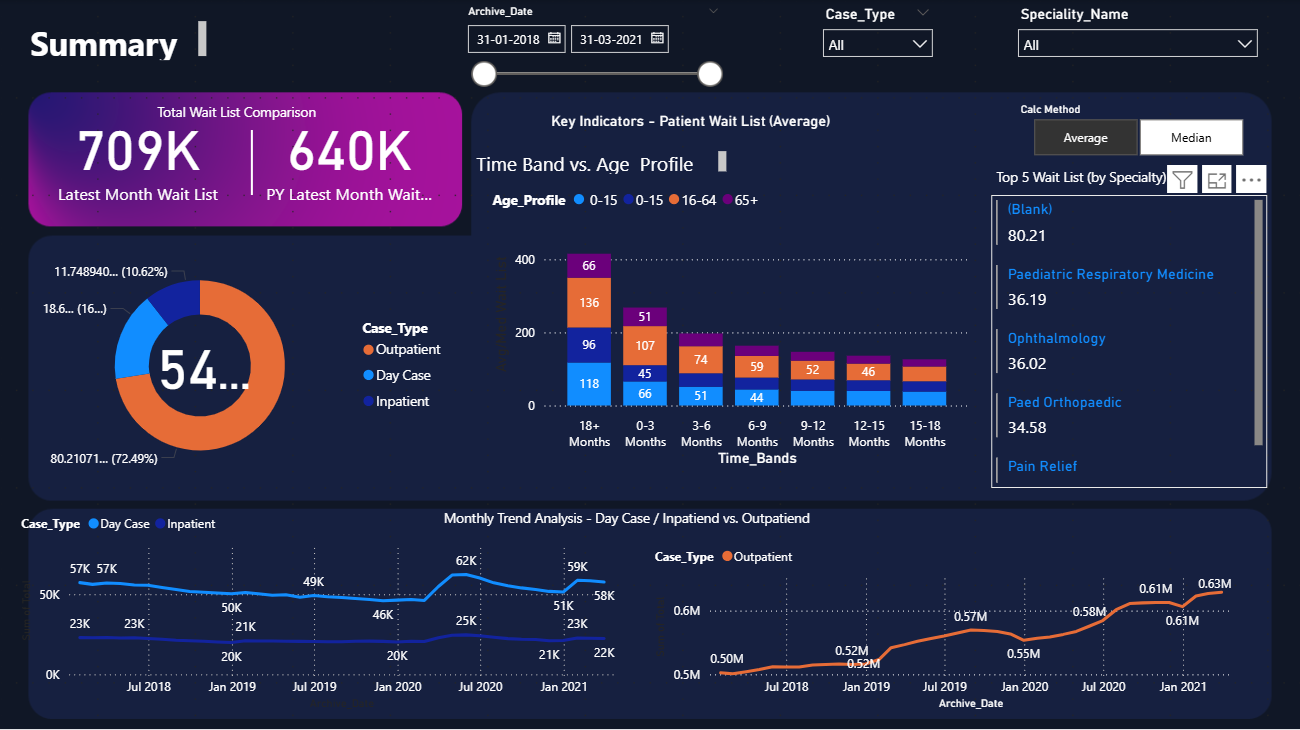

Layout of this report page (visuals, bound fields, positions):
{"tool":"powerbi","page":{"name":"Summary","canvas":[1280,720],"ordinal":0},"visuals":[{"type":"card","fields":{"Values":["All_Data.Latest Month Wait List"]},"box":[48,96,176,112],"z":0},{"type":"card","fields":{"Values":["All_Data.PY Latest Month Wait List"]},"box":[256,96,176,112],"z":1000},{"type":"slicer","fields":{"Values":["Calculation Method.Calc Method"]},"box":[960,96,256,64],"z":2000},{"type":"donutChart","fields":{"Y":["All_Data.Avg/Med Wait List"],"Category":["All_Data.Case_Type"]},"box":[32,240,416,240],"z":3000},{"type":"columnChart","fields":{"Y":["All_Data.Avg/Med Wait List"],"Category":["All_Data.Time_Bands"],"Series":["All_Data.Age_Profile"]},"box":[480,176,480,288],"z":4000},{"type":"multiRowCard","fields":{"Values":["All_Data.Avg/Med Wait List","All_Data.Specialty_Name"]},"box":[976,192,272,288],"z":5000},{"type":"lineChart","fields":{"Category":["All_Data.Archive_Date"],"Y":["Sum(All_Data.Total)"],"Series":["All_Data.Case_Type"]},"box":[16,496,608,208],"z":6000},{"type":"lineChart","fields":{"Category":["All_Data.Archive_Date"],"Y":["Sum(All_Data.Total)"],"Series":["All_Data.Case_Type"]},"box":[640,528,592,176],"z":7000},{"type":"slicer","fields":{"Values":["All_Data.Archive_Date"]},"box":[464,0,272,96],"z":8000},{"type":"slicer","fields":{"Values":["All_Data.Case_Type"]},"box":[800,0,160,64],"z":9000},{"type":"slicer","fields":{"Values":["All_Data.Specialty_Name"]},"box":[992,0,256,64],"z":10000},{"type":"textbox","box":[16,16,192,48],"z":11000},{"type":"card","fields":{"Values":["All_Data.Avg/Med Wait List"]},"box":[144,336,112,64],"z":12000},{"type":"shape","box":[176,128,144,64],"z":13000},{"type":"textbox","box":[128,96,272,32],"z":14000},{"type":"textbox","box":[464,144,256,32],"z":15000},{"type":"textbox","box":[432,496,384,48],"z":16000},{"type":"card","fields":{"Values":["All_Data.Dynamic Title"]},"box":[512,96,336,48],"z":17000},{"type":"textbox","box":[976,160,240,32],"z":18000}]}

Visuals, with their boxes in screenshot pixels (x1, y1, x2, y2), scaled from the page's 1280x720 canvas onto the 1300x730 screenshot:
card - All_Data.Latest Month Wait List: BBox(49, 97, 228, 211)
card - All_Data.PY Latest Month Wait List: BBox(260, 97, 439, 211)
slicer - Calculation Method.Calc Method: BBox(975, 97, 1235, 162)
donutChart - All_Data.Avg/Med Wait List x All_Data.Case_Type: BBox(32, 243, 455, 487)
columnChart - All_Data.Avg/Med Wait List x All_Data.Time_Bands: BBox(488, 178, 975, 470)
multiRowCard - All_Data.Avg/Med Wait List x All_Data.Specialty_Name: BBox(991, 195, 1268, 487)
lineChart - All_Data.Archive_Date x Sum(All_Data.Total): BBox(16, 503, 634, 714)
lineChart - All_Data.Archive_Date x Sum(All_Data.Total): BBox(650, 535, 1251, 714)
slicer - All_Data.Archive_Date: BBox(471, 0, 748, 97)
slicer - All_Data.Case_Type: BBox(812, 0, 975, 65)
slicer - All_Data.Specialty_Name: BBox(1008, 0, 1268, 65)
textbox: BBox(16, 16, 211, 65)
card - All_Data.Avg/Med Wait List: BBox(146, 341, 260, 406)
shape: BBox(179, 130, 325, 195)
textbox: BBox(130, 97, 406, 130)
textbox: BBox(471, 146, 731, 178)
textbox: BBox(439, 503, 829, 552)
card - All_Data.Dynamic Title: BBox(520, 97, 861, 146)
textbox: BBox(991, 162, 1235, 195)
